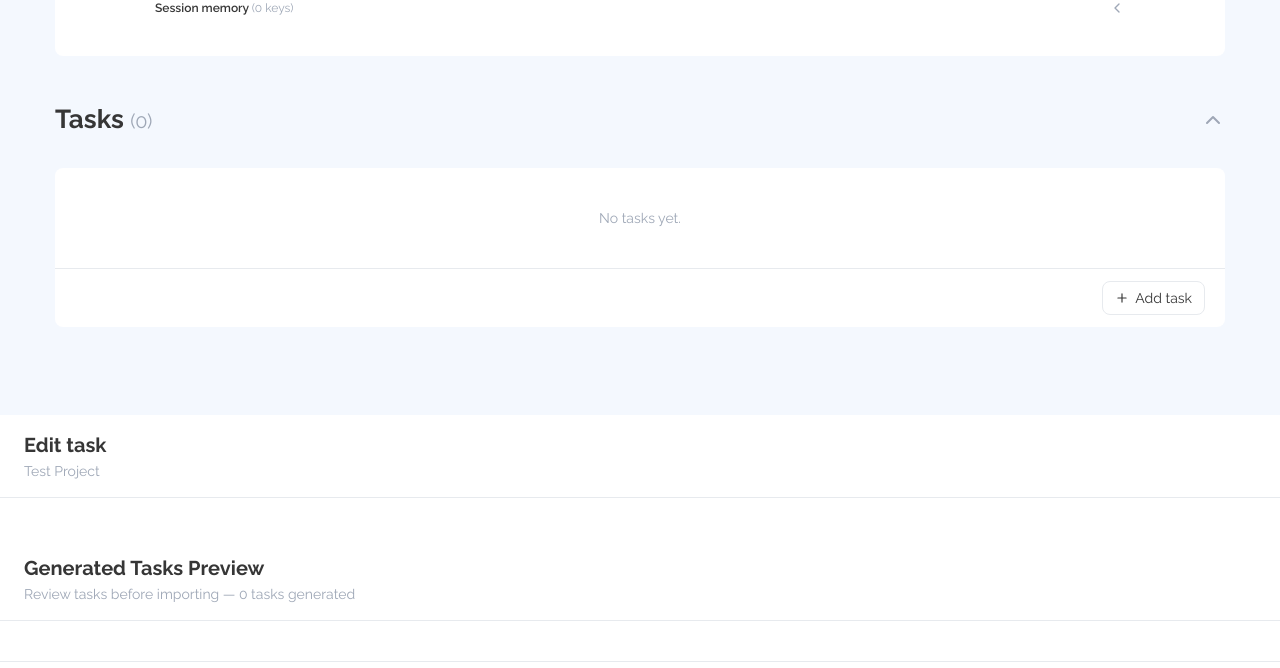
routes/projects/[id=uuid]/edit/+page.svelte › AC-012: Add drawer exposes tag input and tags_json hidden field
(page scrolled)
Click the button with test id "add-task-btn" at (1154, 298), box [1102,281,1205,315]
(page scrolled)
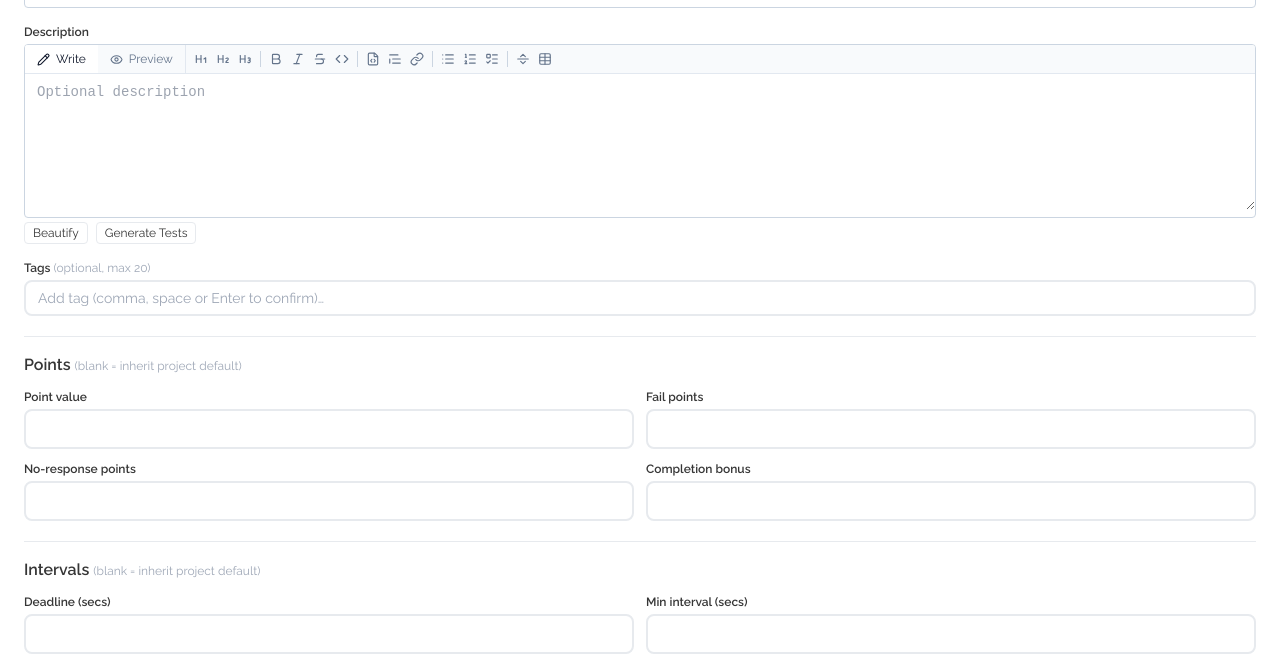
Expected: the field with test id "drawer-tag-input" is shown, [24,280,1256,316]
Expected: the element with test id "add-task-tags-json" is shown, [24,260,1256,316]
